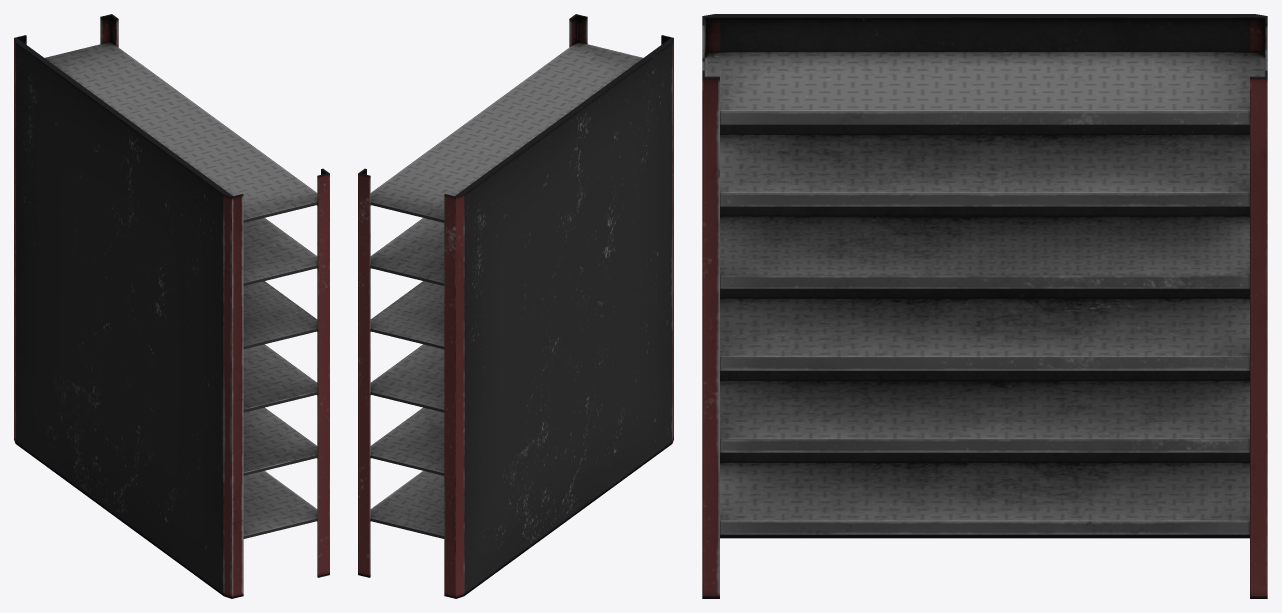
The model's file is low_poly_metal_shelf_-_game_ready.glb.
3 renders of one model, left to right at view 1: azimuth 30°, elevation 25°; view 2: azimuth 150°, elevation 25°; view 3: azimuth 270°, elevation 25°, orthographic. The views are drawn at different scales.
Parts seen in each view (by area): view 1: Cube_0; view 2: Cube_0; view 3: Cube_0.
Boxes of the visible parts, left/top/right/bottom form: Cube_0: left=14, top=14, right=329, bottom=598; Cube_0: left=358, top=14, right=673, bottom=598; Cube_0: left=702, top=14, right=1267, bottom=598.
Bounding box in the file's own units: 5.47 × 20.68 × 20.35.
Materials: 1 (1 with a texture image).
